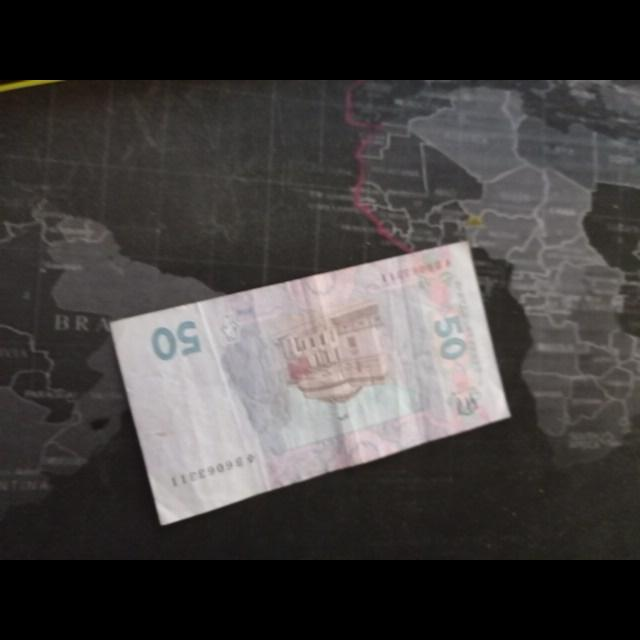50uah: (109, 238, 513, 528)
